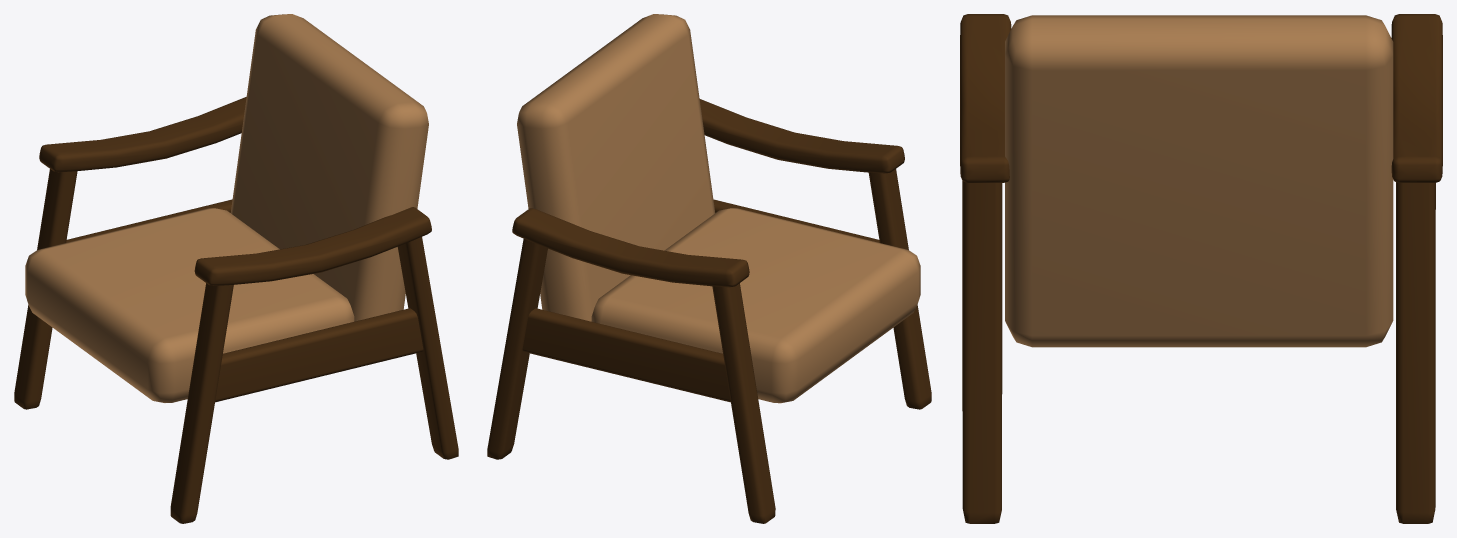
File: armchair_08_brown.fbx
3 renders of one model, left to right at view 1: azimuth 30°, elevation 25°; view 2: azimuth 150°, elevation 25°; view 3: azimuth 270°, elevation 25°, orthographic. The views are drawn at different scales.
Visible parts, largest first — view 1: armchair_08_brown; view 2: armchair_08_brown; view 3: armchair_08_brown.
Part boxes in pixels (x1=…): armchair_08_brown: x1=14, y1=14, x2=458, y2=523; armchair_08_brown: x1=487, y1=14, x2=931, y2=523; armchair_08_brown: x1=960, y1=14, x2=1442, y2=523.
Size of the model in its own units: 94.97 by 109 by 99.4.
Materials: 2 (2 with a texture image).
